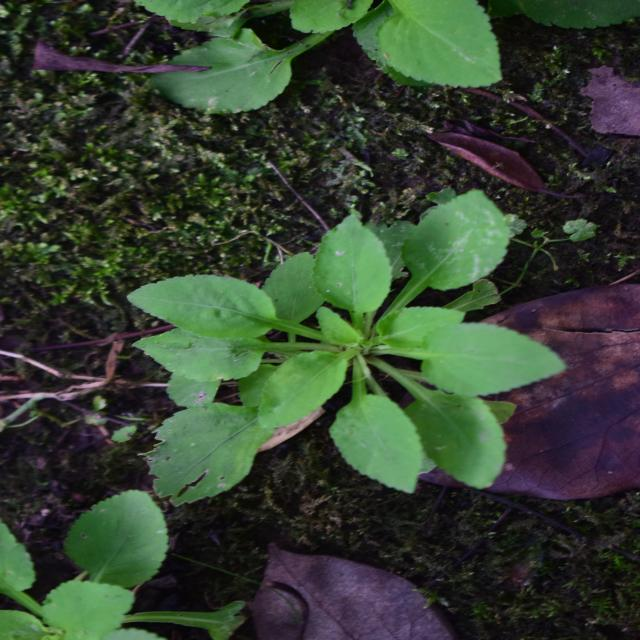Viola: (149, 148, 448, 538)
